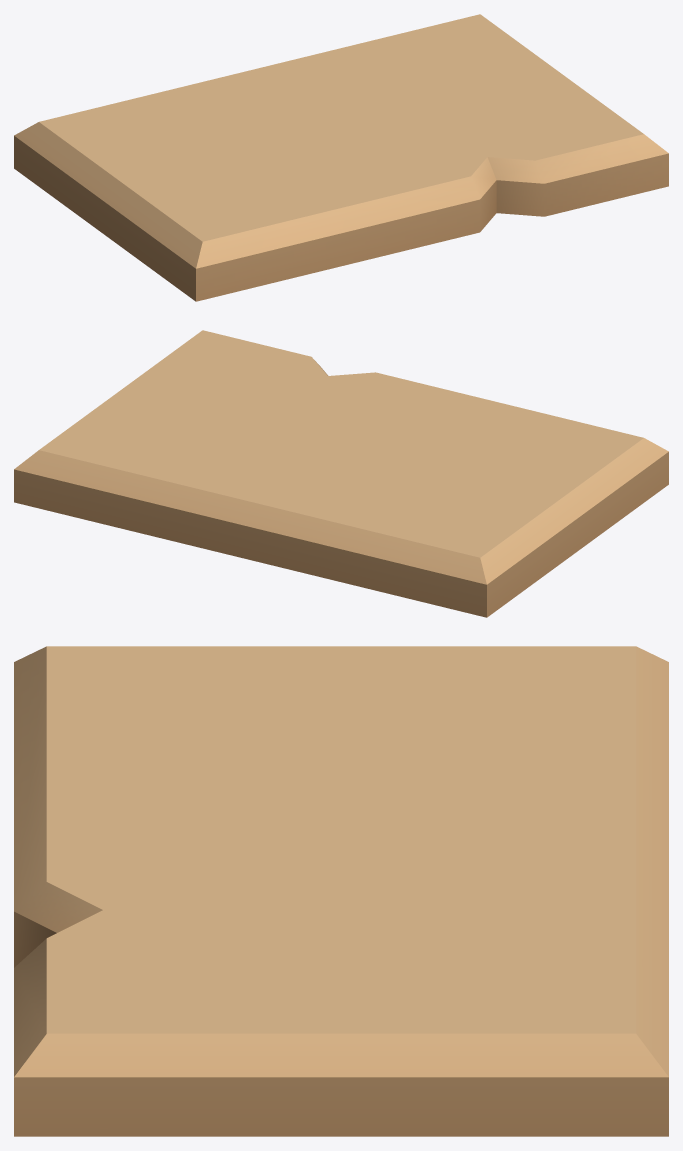
The model's file is cutting_board.glb.
3 views of the same model, one above another, from view 1: azimuth 30°, elevation 25°; view 2: azimuth 150°, elevation 25°; view 3: azimuth 270°, elevation 25° (orthographic). The views are drawn at different scales.
Parts seen in each view (by area): view 1: cuttingboard; view 2: cuttingboard; view 3: cuttingboard.
Boxes of the visible parts, <box> form: cuttingboard: <box>14,14,668,301</box>; cuttingboard: <box>14,330,668,617</box>; cuttingboard: <box>14,646,668,1136</box>.
Size of the model in its own units: 1.5 by 0.15 by 1.
Materials: 1 (1 with a texture image).
